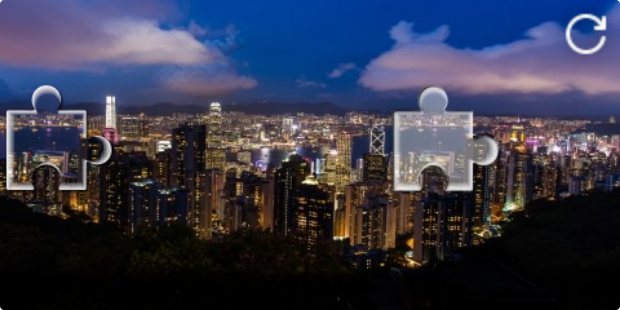target: (394, 86, 498, 191)
